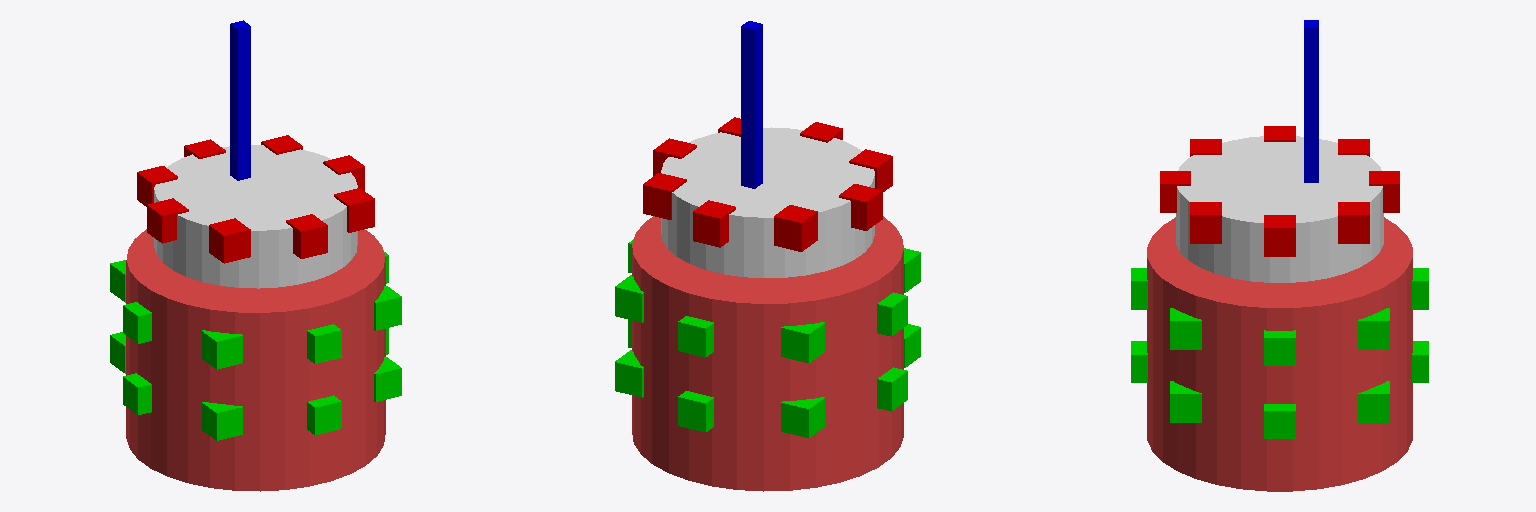
The robot description file, URDF, robot "random_bottle":
<?xml version="1.0"?>
<robot name="random_bottle">

  <!-- Define the cap link -->
  <link name="link1">
    <visual>
      <geometry>
        <mesh filename="cap.obj" scale="1.0 1.0 1.0"/>
      </geometry>
       <material name="white">
        <color rgba=".9 .9 .9 1"/>
      </material>

    </visual>
    <collision>
      <geometry>
        <mesh filename="cap.obj" scale="1.0 1.0 1.0"/>
      </geometry>
    </collision>

    <inertial>
      <mass value="0.01760133400764732"/> <!-- You can adjust the mass as needed -->
      <origin rpy="0 0 0" xyz="0 0 0"/>
      <inertia ixx="5.4960435804066805e-06" ixy="0.0" ixz="0.0" iyy="5.4960435804066805e-06" iyz="0.0" izz="9.729171632945453e-06"/>
    </inertial>
  </link>

    <link name="l10">
    <visual>
      <geometry>
        <box size="0.01 0.01 0.01"/>
      </geometry>

      <material name="red">
        <color rgba="0.9 0.0 0.0 1"/>
      </material>

    </visual>

    <inertial>
      <mass value="0.0001"/> <!-- You can adjust the mass as needed -->
      <origin rpy="0 0 0" xyz="0 0 -0.00"/> <!-- Offset by half of link1's height + 0.03m for the margin -->
      <inertia ixx="0.000000003" ixy="0.0" ixz="0.0" iyy="0.0000003" iyz="0.0" izz="0.00000003"/>
    </inertial>

  </link>
  <link name="l11">
    <visual>
      <geometry>
        <box size="0.01 0.01 0.01"/>
      </geometry>

      <material name="red">
        <color rgba="0.9 0.0 0.0 1"/>
      </material>

    </visual>

    <inertial>
      <mass value="0.0001"/> <!-- You can adjust the mass as needed -->
      <origin rpy="0 0 0" xyz="0 0 -0.00"/> <!-- Offset by half of link1's height + 0.03m for the margin -->
      <inertia ixx="0.000000003" ixy="0.0" ixz="0.0" iyy="0.0000003" iyz="0.0" izz="0.00000003"/>
    </inertial>

  </link>
  <link name="l12">
    <visual>
      <geometry>
        <box size="0.01 0.01 0.01"/>
      </geometry>

      <material name="red">
        <color rgba="0.9 0.0 0.0 1"/>
      </material>

    </visual>

    <inertial>
      <mass value="0.0001"/> <!-- You can adjust the mass as needed -->
      <origin rpy="0 0 0" xyz="0 0 -0.00"/> <!-- Offset by half of link1's height + 0.03m for the margin -->
      <inertia ixx="0.000000003" ixy="0.0" ixz="0.0" iyy="0.0000003" iyz="0.0" izz="0.00000003"/>
    </inertial>

  </link>
  <link name="l13">
    <visual>
      <geometry>
        <box size="0.01 0.01 0.01"/>
      </geometry>

      <material name="red">
        <color rgba="0.9 0.0 0.0 1"/>
      </material>

    </visual>

    <inertial>
      <mass value="0.0001"/> <!-- You can adjust the mass as needed -->
      <origin rpy="0 0 0" xyz="0 0 -0.00"/> <!-- Offset by half of link1's height + 0.03m for the margin -->
      <inertia ixx="0.000000003" ixy="0.0" ixz="0.0" iyy="0.0000003" iyz="0.0" izz="0.00000003"/>
    </inertial>

  </link>
  <link name="l10b">
    <visual>
      <geometry>
        <box size="0.01 0.01 0.01"/>
      </geometry>

      <material name="red">
        <color rgba="0.9 0.0 0.0 1"/>
      </material>

    </visual>

    <inertial>
      <mass value="0.0001"/> <!-- You can adjust the mass as needed -->
      <origin rpy="0 0 0" xyz="0 0 -0.00"/> <!-- Offset by half of link1's height + 0.03m for the margin -->
      <inertia ixx="0.000000003" ixy="0.0" ixz="0.0" iyy="0.0000003" iyz="0.0" izz="0.00000003"/>
    </inertial>

  </link>
  <link name="l11b">
    <visual>
      <geometry>
        <box size="0.01 0.01 0.01"/>
      </geometry>

      <material name="red">
        <color rgba="0.9 0.0 0.0 1"/>
      </material>

    </visual>

    <inertial>
      <mass value="0.0001"/> <!-- You can adjust the mass as needed -->
      <origin rpy="0 0 0" xyz="0 0 -0.00"/> <!-- Offset by half of link1's height + 0.03m for the margin -->
      <inertia ixx="0.000000003" ixy="0.0" ixz="0.0" iyy="0.0000003" iyz="0.0" izz="0.00000003"/>
    </inertial>

  </link>
  <link name="l12b">
    <visual>
      <geometry>
        <box size="0.01 0.01 0.01"/>
      </geometry>

      <material name="red">
        <color rgba="0.9 0.0 0.0 1"/>
      </material>

    </visual>

    <inertial>
      <mass value="0.0001"/> <!-- You can adjust the mass as needed -->
      <origin rpy="0 0 0" xyz="0 0 -0.00"/> <!-- Offset by half of link1's height + 0.03m for the margin -->
      <inertia ixx="0.000000003" ixy="0.0" ixz="0.0" iyy="0.0000003" iyz="0.0" izz="0.00000003"/>
    </inertial>

  </link>
  <link name="l13b">
    <visual>
      <geometry>
        <box size="0.01 0.01 0.01"/>
      </geometry>

      <material name="red">
        <color rgba="0.9 0.0 0.0 1"/>
      </material>

    </visual>

    <inertial>
      <mass value="0.0001"/> <!-- You can adjust the mass as needed -->
      <origin rpy="0 0 0" xyz="0 0 -0.00"/> <!-- Offset by half of link1's height + 0.03m for the margin -->
      <inertia ixx="0.000000003" ixy="0.0" ixz="0.0" iyy="0.0000003" iyz="0.0" izz="0.00000003"/>
    </inertial>

  </link>
  <link name="l20">
    <visual>
      <geometry>
        <box size="0.01 0.01 0.01"/>
      </geometry>

      <material name="red">
        <color rgba="0.0 0.9 0.0 1"/>
      </material>

    </visual>

    <inertial>
      <mass value="0.0001"/> <!-- You can adjust the mass as needed -->
      <origin rpy="0 0 0" xyz="0 0 -0.00"/> <!-- Offset by half of link1's height + 0.03m for the margin -->
      <inertia ixx="0.000000003" ixy="0.0" ixz="0.0" iyy="0.0000003" iyz="0.0" izz="0.00000003"/>
    </inertial>

  </link>
  <link name="l21">
    <visual>
      <geometry>
        <box size="0.01 0.01 0.01"/>
      </geometry>

      <material name="red">
        <color rgba="0.0 0.9 0.0 1"/>
      </material>

    </visual>

    <inertial>
      <mass value="0.0001"/> <!-- You can adjust the mass as needed -->
      <origin rpy="0 0 0" xyz="0 0 -0.00"/> <!-- Offset by half of link1's height + 0.03m for the margin -->
      <inertia ixx="0.000000003" ixy="0.0" ixz="0.0" iyy="0.0000003" iyz="0.0" izz="0.00000003"/>
    </inertial>

  </link>
  <link name="l22">
    <visual>
      <geometry>
        <box size="0.01 0.01 0.01"/>
      </geometry>

      <material name="red">
        <color rgba="0.0 0.9 0.0 1"/>
      </material>

    </visual>

    <inertial>
      <mass value="0.0001"/> <!-- You can adjust the mass as needed -->
      <origin rpy="0 0 0" xyz="0 0 -0.00"/> <!-- Offset by half of link1's height + 0.03m for the margin -->
      <inertia ixx="0.000000003" ixy="0.0" ixz="0.0" iyy="0.0000003" iyz="0.0" izz="0.00000003"/>
    </inertial>

  </link>
  <link name="l23">
    <visual>
      <geometry>
        <box size="0.01 0.01 0.01"/>
      </geometry>

      <material name="red">
        <color rgba="0.0 0.9 0.0 1"/>
      </material>

    </visual>

    <inertial>
      <mass value="0.0001"/> <!-- You can adjust the mass as needed -->
      <origin rpy="0 0 0" xyz="0 0 -0.00"/> <!-- Offset by half of link1's height + 0.03m for the margin -->
      <inertia ixx="0.000000003" ixy="0.0" ixz="0.0" iyy="0.0000003" iyz="0.0" izz="0.00000003"/>
    </inertial>

  </link>
  <link name="l24">
    <visual>
      <geometry>
        <box size="0.01 0.01 0.01"/>
      </geometry>

      <material name="red">
        <color rgba="0.0 0.9 0.0 1"/>
      </material>

    </visual>

    <inertial>
      <mass value="0.0001"/> <!-- You can adjust the mass as needed -->
      <origin rpy="0 0 0" xyz="0 0 -0.00"/> <!-- Offset by half of link1's height + 0.03m for the margin -->
      <inertia ixx="0.000000003" ixy="0.0" ixz="0.0" iyy="0.0000003" iyz="0.0" izz="0.00000003"/>
    </inertial>

  </link>
  <link name="l25">
    <visual>
      <geometry>
        <box size="0.01 0.01 0.01"/>
      </geometry>

      <material name="red">
        <color rgba="0.0 0.9 0.0 1"/>
      </material>

    </visual>

    <inertial>
      <mass value="0.0001"/> <!-- You can adjust the mass as needed -->
      <origin rpy="0 0 0" xyz="0 0 -0.00"/> <!-- Offset by half of link1's height + 0.03m for the margin -->
      <inertia ixx="0.000000003" ixy="0.0" ixz="0.0" iyy="0.0000003" iyz="0.0" izz="0.00000003"/>
    </inertial>

  </link>
  <link name="l26">
    <visual>
      <geometry>
        <box size="0.01 0.01 0.01"/>
      </geometry>

      <material name="red">
        <color rgba="0.0 0.9 0.0 1"/>
      </material>

    </visual>

    <inertial>
      <mass value="0.0001"/> <!-- You can adjust the mass as needed -->
      <origin rpy="0 0 0" xyz="0 0 -0.00"/> <!-- Offset by half of link1's height + 0.03m for the margin -->
      <inertia ixx="0.000000003" ixy="0.0" ixz="0.0" iyy="0.0000003" iyz="0.0" izz="0.00000003"/>
    </inertial>

  </link>
  <link name="l27">
    <visual>
      <geometry>
        <box size="0.01 0.01 0.01"/>
      </geometry>

      <material name="red">
        <color rgba="0.0 0.9 0.0 1"/>
      </material>

    </visual>

    <inertial>
      <mass value="0.0001"/> <!-- You can adjust the mass as needed -->
      <origin rpy="0 0 0" xyz="0 0 -0.00"/> <!-- Offset by half of link1's height + 0.03m for the margin -->
      <inertia ixx="0.000000003" ixy="0.0" ixz="0.0" iyy="0.0000003" iyz="0.0" izz="0.00000003"/>
    </inertial>

  </link>
  <link name="l30">
    <visual>
      <geometry>
        <box size="0.01 0.01 0.01"/>
      </geometry>

      <material name="red">
        <color rgba="0.0 0.9 0.0 1"/>
      </material>

    </visual>

    <inertial>
      <mass value="0.0001"/> <!-- You can adjust the mass as needed -->
      <origin rpy="0 0 0" xyz="0 0 -0.00"/> <!-- Offset by half of link1's height + 0.03m for the margin -->
      <inertia ixx="0.000000003" ixy="0.0" ixz="0.0" iyy="0.0000003" iyz="0.0" izz="0.00000003"/>
    </inertial>

  </link>
  <link name="l31">
    <visual>
      <geometry>
        <box size="0.01 0.01 0.01"/>
      </geometry>

      <material name="red">
        <color rgba="0.0 0.9 0.0 1"/>
      </material>

    </visual>

    <inertial>
      <mass value="0.0001"/> <!-- You can adjust the mass as needed -->
      <origin rpy="0 0 0" xyz="0 0 -0.00"/> <!-- Offset by half of link1's height + 0.03m for the margin -->
      <inertia ixx="0.000000003" ixy="0.0" ixz="0.0" iyy="0.0000003" iyz="0.0" izz="0.00000003"/>
    </inertial>

  </link>
  <link name="l32">
    <visual>
      <geometry>
        <box size="0.01 0.01 0.01"/>
      </geometry>

      <material name="red">
        <color rgba="0.0 0.9 0.0 1"/>
      </material>

    </visual>

    <inertial>
      <mass value="0.0001"/> <!-- You can adjust the mass as needed -->
      <origin rpy="0 0 0" xyz="0 0 -0.00"/> <!-- Offset by half of link1's height + 0.03m for the margin -->
      <inertia ixx="0.000000003" ixy="0.0" ixz="0.0" iyy="0.0000003" iyz="0.0" izz="0.00000003"/>
    </inertial>

  </link>
  <link name="l33">
    <visual>
      <geometry>
        <box size="0.01 0.01 0.01"/>
      </geometry>

      <material name="red">
        <color rgba="0.0 0.9 0.0 1"/>
      </material>

    </visual>

    <inertial>
      <mass value="0.0001"/> <!-- You can adjust the mass as needed -->
      <origin rpy="0 0 0" xyz="0 0 -0.00"/> <!-- Offset by half of link1's height + 0.03m for the margin -->
      <inertia ixx="0.000000003" ixy="0.0" ixz="0.0" iyy="0.0000003" iyz="0.0" izz="0.00000003"/>
    </inertial>

  </link>
  <link name="l34">
    <visual>
      <geometry>
        <box size="0.01 0.01 0.01"/>
      </geometry>

      <material name="red">
        <color rgba="0.0 0.9 0.0 1"/>
      </material>

    </visual>

    <inertial>
      <mass value="0.0001"/> <!-- You can adjust the mass as needed -->
      <origin rpy="0 0 0" xyz="0 0 -0.00"/> <!-- Offset by half of link1's height + 0.03m for the margin -->
      <inertia ixx="0.000000003" ixy="0.0" ixz="0.0" iyy="0.0000003" iyz="0.0" izz="0.00000003"/>
    </inertial>

  </link>
  <link name="l35">
    <visual>
      <geometry>
        <box size="0.01 0.01 0.01"/>
      </geometry>

      <material name="red">
        <color rgba="0.0 0.9 0.0 1"/>
      </material>

    </visual>

    <inertial>
      <mass value="0.0001"/> <!-- You can adjust the mass as needed -->
      <origin rpy="0 0 0" xyz="0 0 -0.00"/> <!-- Offset by half of link1's height + 0.03m for the margin -->
      <inertia ixx="0.000000003" ixy="0.0" ixz="0.0" iyy="0.0000003" iyz="0.0" izz="0.00000003"/>
    </inertial>

  </link>
  <link name="l36">
    <visual>
      <geometry>
        <box size="0.01 0.01 0.01"/>
      </geometry>

      <material name="red">
        <color rgba="0.0 0.9 0.0 1"/>
      </material>

    </visual>

    <inertial>
      <mass value="0.0001"/> <!-- You can adjust the mass as needed -->
      <origin rpy="0 0 0" xyz="0 0 -0.00"/> <!-- Offset by half of link1's height + 0.03m for the margin -->
      <inertia ixx="0.000000003" ixy="0.0" ixz="0.0" iyy="0.0000003" iyz="0.0" izz="0.00000003"/>
    </inertial>

  </link>
  <link name="l37">
    <visual>
      <geometry>
        <box size="0.01 0.01 0.01"/>
      </geometry>

      <material name="red">
        <color rgba="0.0 0.9 0.0 1"/>
      </material>

    </visual>

    <inertial>
      <mass value="0.0001"/> <!-- You can adjust the mass as needed -->
      <origin rpy="0 0 0" xyz="0 0 -0.00"/> <!-- Offset by half of link1's height + 0.03m for the margin -->
      <inertia ixx="0.000000003" ixy="0.0" ixz="0.0" iyy="0.0000003" iyz="0.0" izz="0.00000003"/>
    </inertial>

  </link>


  <link name="hint">
    <visual>
      <geometry>
        <box size="0.005 0.005 0.07"/> <!-- 9cm x 9cm x 6cm -->
      </geometry>
       <material name="blue">
        <color rgba=".0 .0 .9 1"/>
      </material>
    </visual>

    <inertial>
      <mass value="0.0001"/> <!-- You can adjust the mass as needed -->
      <origin rpy="0 0 0" xyz="0 0 -0.00"/> <!-- Offset by half of link1's height + 0.03m for the margin -->
      <inertia ixx="0.000000003" ixy="0.0" ixz="0.0" iyy="0.0000003" iyz="0.0" izz="0.00000003"/>
    </inertial>


  </link>

  <!-- Define the base link -->
  <link name="link2">
    <visual>
      <geometry>
        <mesh filename="base.obj" scale="1.0 1.0 1.0"/>
      </geometry>
      <material name="red">
        <color rgba=".9 .3 .3 1"/>
      </material>

    </visual>

    <collision>
      <geometry>
        <mesh filename="base.obj" scale="1.0 1.0 1.0"/>
      </geometry>
    </collision>

    <inertial>
      <mass value="0.055704237541877796"/> <!-- You can adjust the mass as needed -->
      <origin rpy="0 0 0" xyz="0 0 -0.00"/> <!-- Offset by half of link1's height + 0.03m for the margin -->
      <inertia ixx="4.4043237942307606e-05" ixy="0.0" ixz="0.0" iyy="4.4043237942307606e-05" iyz="0.0" izz="4.979089495679931e-05"/>
    </inertial>
  </link>



  <link name="brake">
   <visual>
      <geometry>
        <box size="0.02 0.02 0.005"/> <!-- 6cm x 6cm x 2cm -->
      </geometry>
       <material name="gray">
        <color rgba=".5 .5 .5 1"/>
      </material>

    </visual>
    <collision>
      <geometry>
        <box size="0.02 0.02 0.005"/> <!-- 6cm x 6cm x 2cm -->
      </geometry>
    </collision>

    <inertial>
      <mass value="0.005"/> <!-- You can adjust the mass as needed -->
      <origin rpy="0 0 0" xyz="0 0 0"/>
      <inertia ixx="0.00018" ixy="0.0" ixz="0.0" iyy="0.00018" iyz="0.0" izz="0.00018"/>
    </inertial>
  </link>

  <!-- Define the joint connecting link1 and link2 as a revolute joint along z-axis -->
  <joint name="fix_joint" type="fixed">
    <parent link="link1"/>
    <child link="hint"/>
    <origin rpy="0 0 0" xyz="0 0.01 0.03"/> <!-- Offset by half of link1's height for the margin -->
    <axis xyz="0 0 1"/>
  </joint>

  <!-- Define the joint connecting link1 and link2 as a revolute joint along z-axis -->
  <joint name="brake_joint" type="prismatic">
    <parent link="link2"/>
    <child link="brake"/>
    <origin rpy="0 0 0" xyz="0 0 0.05286128431191792"/> <!-- Offset by half of link1's height for the margin -->
    <axis xyz="0 0 1"/>
    <limit lower="-0.02" upper="0.02" />
    <!-- <dynamics damping="0.0" friction="0.0"/> -->
  </joint>


  <joint name="b_joint" type="revolute">
    <parent link="link2"/>
    <child link="link1"/>
    <origin rpy="0 0 0" xyz="0 0 0.04711262763592389"/> <!-- Offset by half of link1's height for the margin -->
    <axis xyz="0 0 1"/>
    <!-- No joint limits -->
    <dynamics damping="0.0" friction="0.0"/>
  </joint>


  <!-- marker -->
    <joint name="jl10" type="fixed">
    <parent link="link1"/>
    <child link="l10"/>
    <origin rpy="0 0 0" xyz="0.0 0.03324911867871943 0.006224597002798207"/> <!-- Offset by half of link1's height for the margin -->
    <axis xyz="0 0 1"/>
  </joint>
  <joint name="jl11" type="fixed">
    <parent link="link1"/>
    <child link="l11"/>
    <origin rpy="0 0 0" xyz="0.023510676971215727 0.02351067760118189 0.006224597002798207"/> <!-- Offset by half of link1's height for the margin -->
    <axis xyz="0 0 1"/>
  </joint>
  <joint name="jl12" type="fixed">
    <parent link="link1"/>
    <child link="l12"/>
    <origin rpy="0 0 0" xyz="0.033249118678719415 8.909066965396309e-10 0.006224597002798207"/> <!-- Offset by half of link1's height for the margin -->
    <axis xyz="0 0 1"/>
  </joint>
  <joint name="jl13" type="fixed">
    <parent link="link1"/>
    <child link="l13"/>
    <origin rpy="0 0 0" xyz="0.023510678231148035 -0.023510676341249544 0.006224597002798207"/> <!-- Offset by half of link1's height for the margin -->
    <axis xyz="0 0 1"/>
  </joint>
  <joint name="jl10b" type="fixed">
    <parent link="link1"/>
    <child link="l10b"/>
    <origin rpy="0 0 0" xyz="1.7818133930792612e-09 -0.03324911867871938 0.006224597002798207"/> <!-- Offset by half of link1's height for the margin -->
    <axis xyz="0 0 1"/>
  </joint>
  <joint name="jl11b" type="fixed">
    <parent link="link1"/>
    <child link="l11b"/>
    <origin rpy="0 0 0" xyz="-0.023510675711283336 -0.023510678861114177 0.006224597002798207"/> <!-- Offset by half of link1's height for the margin -->
    <axis xyz="0 0 1"/>
  </joint>
  <joint name="jl12b" type="fixed">
    <parent link="link1"/>
    <child link="l12b"/>
    <origin rpy="0 0 0" xyz="-0.033249118678719325 -2.6727200748533155e-09 0.006224597002798207"/> <!-- Offset by half of link1's height for the margin -->
    <axis xyz="0 0 1"/>
  </joint>
  <joint name="jl13b" type="fixed">
    <parent link="link1"/>
    <child link="l13b"/>
    <origin rpy="0 0 0" xyz="-0.023510679491080284 0.02351067508131713 0.006224597002798207"/> <!-- Offset by half of link1's height for the margin -->
    <axis xyz="0 0 1"/>
  </joint>
  <joint name="jl20" type="fixed">
    <parent link="link2"/>
    <child link="l20"/>
    <origin rpy="0 0 0" xyz="0.0 0.04228105808439058 0.01926757658155433"/> <!-- Offset by half of link1's height for the margin -->
    <axis xyz="0 0 1"/>
  </joint>
  <joint name="jl21" type="fixed">
    <parent link="link2"/>
    <child link="l21"/>
    <origin rpy="0 0 0" xyz="0.02989722248666838 0.02989722328776137 0.01926757658155433"/> <!-- Offset by half of link1's height for the margin -->
    <axis xyz="0 0 1"/>
  </joint>
  <joint name="jl22" type="fixed">
    <parent link="link2"/>
    <child link="l22"/>
    <origin rpy="0 0 0" xyz="0.04228105808439057 1.1329165788768344e-09 0.01926757658155433"/> <!-- Offset by half of link1's height for the margin -->
    <axis xyz="0 0 1"/>
  </joint>
  <joint name="jl23" type="fixed">
    <parent link="link2"/>
    <child link="l23"/>
    <origin rpy="0 0 0" xyz="0.029897224088854337 -0.029897221685575365 0.01926757658155433"/> <!-- Offset by half of link1's height for the margin -->
    <axis xyz="0 0 1"/>
  </joint>
  <joint name="jl24" type="fixed">
    <parent link="link2"/>
    <child link="l24"/>
    <origin rpy="0 0 0" xyz="2.265833157753668e-09 -0.04228105808439052 0.01926757658155433"/> <!-- Offset by half of link1's height for the margin -->
    <axis xyz="0 0 1"/>
  </joint>
  <joint name="jl25" type="fixed">
    <parent link="link2"/>
    <child link="l25"/>
    <origin rpy="0 0 0" xyz="-0.029897220884482316 -0.029897224889947307 0.01926757658155433"/> <!-- Offset by half of link1's height for the margin -->
    <axis xyz="0 0 1"/>
  </joint>
  <joint name="jl26" type="fixed">
    <parent link="link2"/>
    <child link="l26"/>
    <origin rpy="0 0 0" xyz="-0.04228105808439044 -3.3987497178539387e-09 0.01926757658155433"/> <!-- Offset by half of link1's height for the margin -->
    <axis xyz="0 0 1"/>
  </joint>
  <joint name="jl27" type="fixed">
    <parent link="link2"/>
    <child link="l27"/>
    <origin rpy="0 0 0" xyz="-0.02989722569104022 0.02989722008338927 0.01926757658155433"/> <!-- Offset by half of link1's height for the margin -->
    <axis xyz="0 0 1"/>
  </joint>
  <joint name="jl30" type="fixed">
    <parent link="link2"/>
    <child link="l30"/>
    <origin rpy="0 0 0" xyz="0.0 0.04228105808439058 -0.006422525527184778"/> <!-- Offset by half of link1's height for the margin -->
    <axis xyz="0 0 1"/>
  </joint>
  <joint name="jl31" type="fixed">
    <parent link="link2"/>
    <child link="l31"/>
    <origin rpy="0 0 0" xyz="0.02989722248666838 0.02989722328776137 -0.006422525527184778"/> <!-- Offset by half of link1's height for the margin -->
    <axis xyz="0 0 1"/>
  </joint>
  <joint name="jl32" type="fixed">
    <parent link="link2"/>
    <child link="l32"/>
    <origin rpy="0 0 0" xyz="0.04228105808439057 1.1329165788768344e-09 -0.006422525527184778"/> <!-- Offset by half of link1's height for the margin -->
    <axis xyz="0 0 1"/>
  </joint>
  <joint name="jl33" type="fixed">
    <parent link="link2"/>
    <child link="l33"/>
    <origin rpy="0 0 0" xyz="0.029897224088854337 -0.029897221685575365 -0.006422525527184778"/> <!-- Offset by half of link1's height for the margin -->
    <axis xyz="0 0 1"/>
  </joint>
  <joint name="jl34" type="fixed">
    <parent link="link2"/>
    <child link="l34"/>
    <origin rpy="0 0 0" xyz="2.265833157753668e-09 -0.04228105808439052 -0.006422525527184778"/> <!-- Offset by half of link1's height for the margin -->
    <axis xyz="0 0 1"/>
  </joint>
  <joint name="jl35" type="fixed">
    <parent link="link2"/>
    <child link="l35"/>
    <origin rpy="0 0 0" xyz="-0.029897220884482316 -0.029897224889947307 -0.006422525527184778"/> <!-- Offset by half of link1's height for the margin -->
    <axis xyz="0 0 1"/>
  </joint>
  <joint name="jl36" type="fixed">
    <parent link="link2"/>
    <child link="l36"/>
    <origin rpy="0 0 0" xyz="-0.04228105808439044 -3.3987497178539387e-09 -0.006422525527184778"/> <!-- Offset by half of link1's height for the margin -->
    <axis xyz="0 0 1"/>
  </joint>
  <joint name="jl37" type="fixed">
    <parent link="link2"/>
    <child link="l37"/>
    <origin rpy="0 0 0" xyz="-0.02989722569104022 0.02989722008338927 -0.006422525527184778"/> <!-- Offset by half of link1's height for the margin -->
    <axis xyz="0 0 1"/>
  </joint>



</robot>

--- Facts derived from the render (not from the file) ---
The picture shows the robot from 3 angles, left to right: view 1: azimuth 30°, elevation 25°; view 2: azimuth 150°, elevation 25°; view 3: azimuth 270°, elevation 25°; orthographic projection.
Robot: random_bottle — 28 links, 27 joints (1 revolute, 1 prismatic, 25 fixed); root link link2; default pose: every joint at zero.
Links seen in each view (by area): view 1: link2, link1, hint, l11b, l10b, l25, l35, l12b, l13, l34, l24, l26 (+8 smaller); view 2: link2, link1, hint, l13b, l27, l37, l10, l12b, l11, l20, l30, l26 (+8 smaller); view 3: link2, link1, hint, l11, l12, l13, l21, l23, l31, l33, l22, l32 (+6 smaller).
Link boxes in pixels (x1,y1,x2,y2): link2: (126, 229, 385, 491); link1: (154, 145, 357, 288); hint: (230, 20, 250, 180); l11b: (209, 218, 250, 263); l10b: (286, 214, 327, 258); l25: (202, 330, 242, 369); l35: (202, 402, 242, 440); l12b: (147, 198, 188, 243); l13: (334, 188, 374, 232); l34: (307, 395, 341, 435); l24: (307, 324, 341, 363); l26: (123, 302, 151, 343); link2: (632, 216, 903, 491); link1: (661, 127, 874, 277); hint: (741, 21, 762, 188); l13b: (774, 205, 817, 251); l27: (781, 322, 824, 362); l37: (781, 397, 824, 437); l10: (693, 200, 735, 247); l12b: (839, 184, 882, 230); l11: (643, 173, 686, 219); l20: (678, 316, 713, 357); l30: (678, 391, 713, 432); l26: (877, 292, 907, 336); link2: (1147, 217, 1412, 491); link1: (1176, 136, 1383, 282); hint: (1304, 20, 1318, 182); l11: (1338, 202, 1369, 243); l12: (1264, 215, 1295, 256); l13: (1190, 202, 1221, 243); l21: (1358, 308, 1389, 349); l23: (1170, 308, 1201, 349); l31: (1358, 381, 1389, 422); l33: (1170, 381, 1201, 422); l22: (1264, 330, 1295, 365); l32: (1264, 404, 1295, 438).
Bounding box of the posed robot: 0.0946 × 0.0946 × 0.1442 m (x, y, z).
2 mesh visuals loaded from 2 distinct referenced files (2 OBJ).
